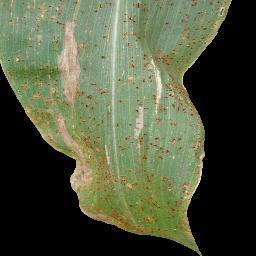Corn_Common_Rust: (0, 0, 241, 256), (206, 129, 229, 131)
